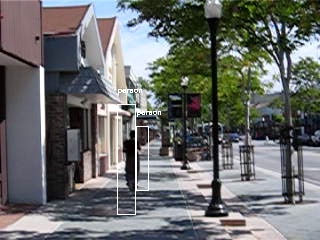person: (123, 130, 142, 193), (122, 130, 141, 193), (124, 130, 143, 193), (123, 129, 142, 192), (123, 131, 142, 194)
target_negative: (217, 7, 314, 153), (164, 67, 286, 152), (228, 158, 290, 170), (96, 138, 211, 144), (227, 228, 254, 240), (223, 204, 253, 211)
